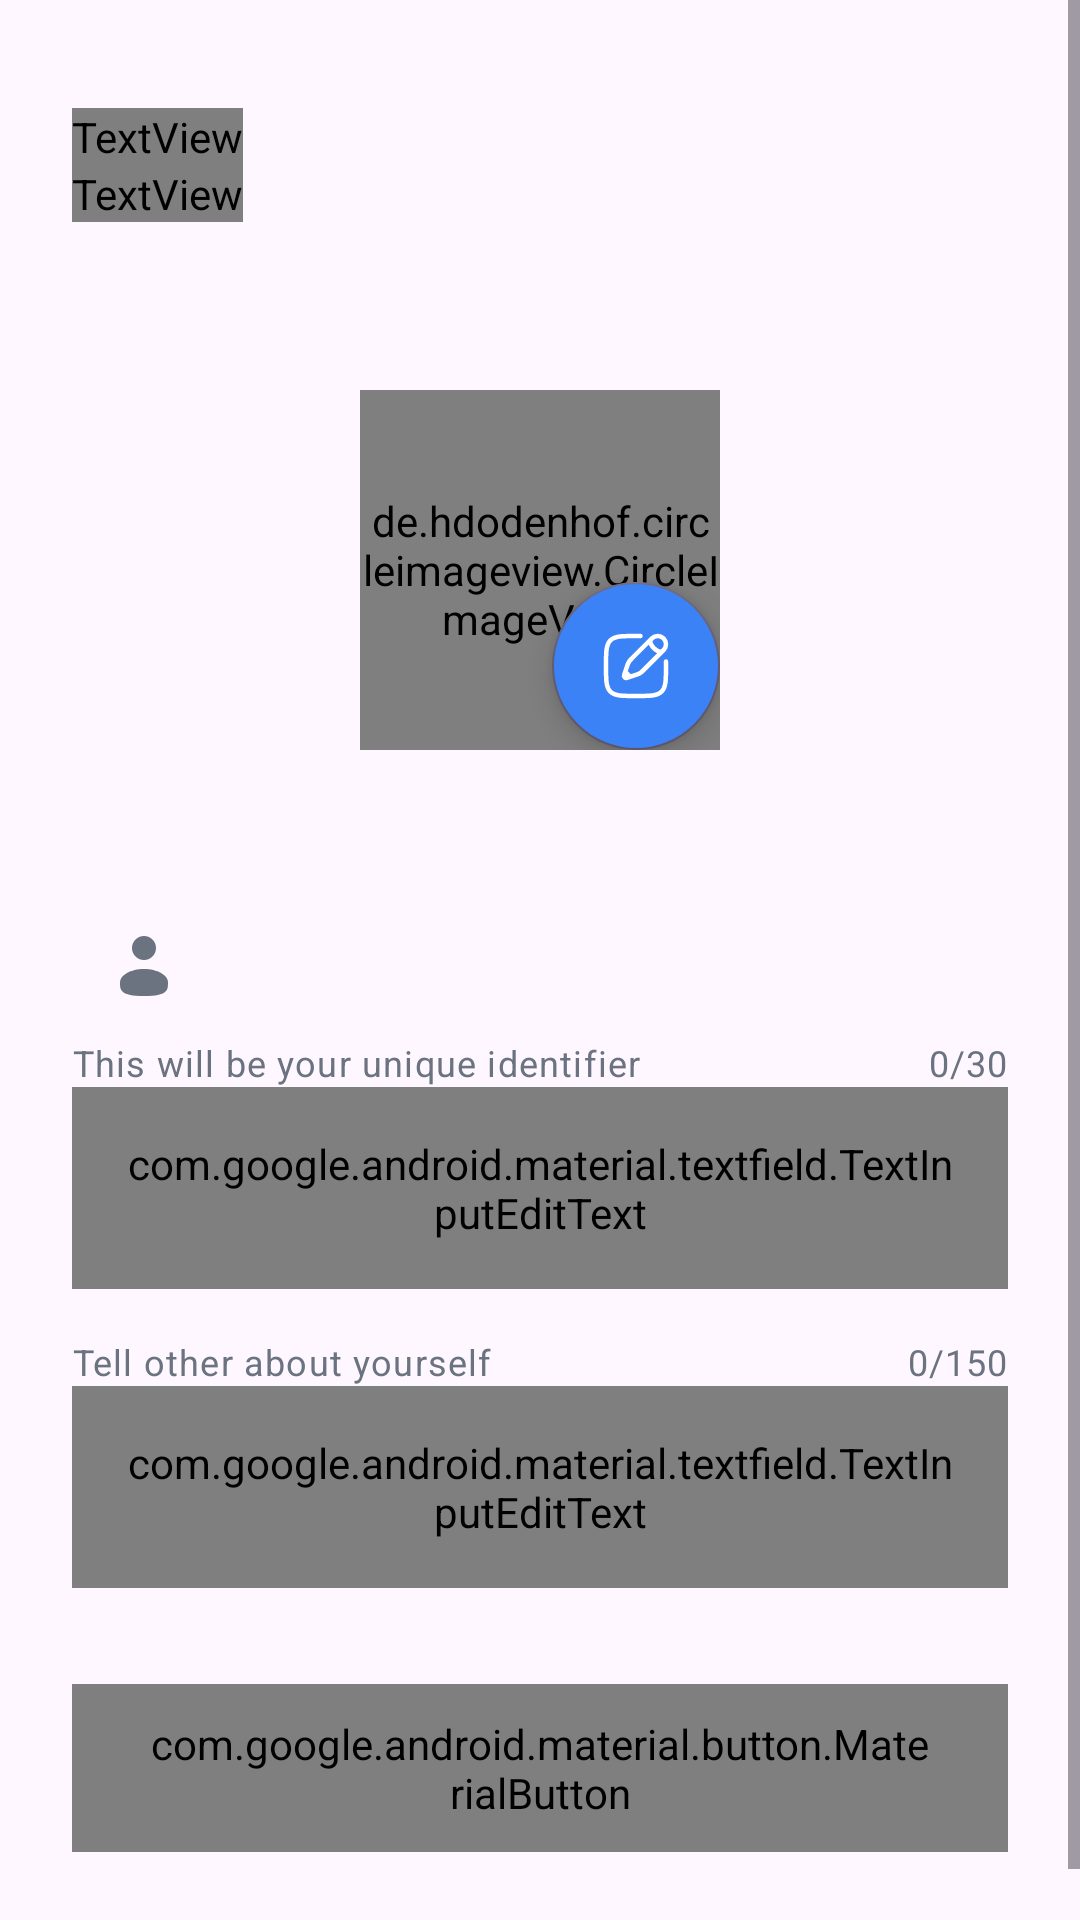

Where to tap for icons on this 1080px x 1920px app screen, as [x,y]:
edit: [636,666]
